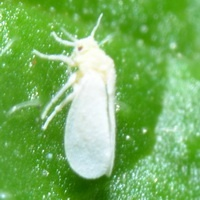insect: (32, 13, 115, 178)
